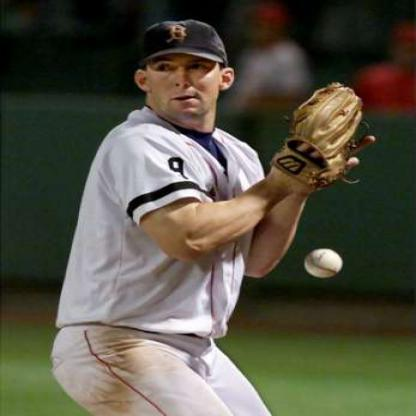face: (145, 22, 224, 123)
